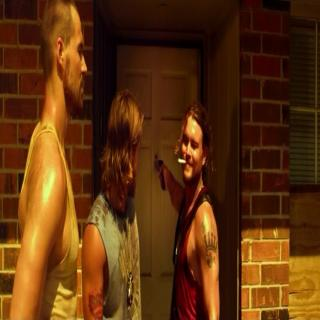gun: (153, 150, 170, 200)
